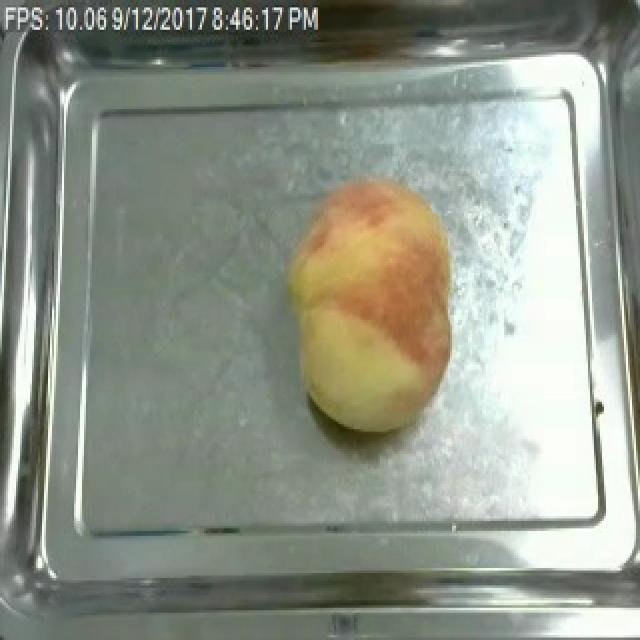Fruit: (276, 168, 462, 436)
